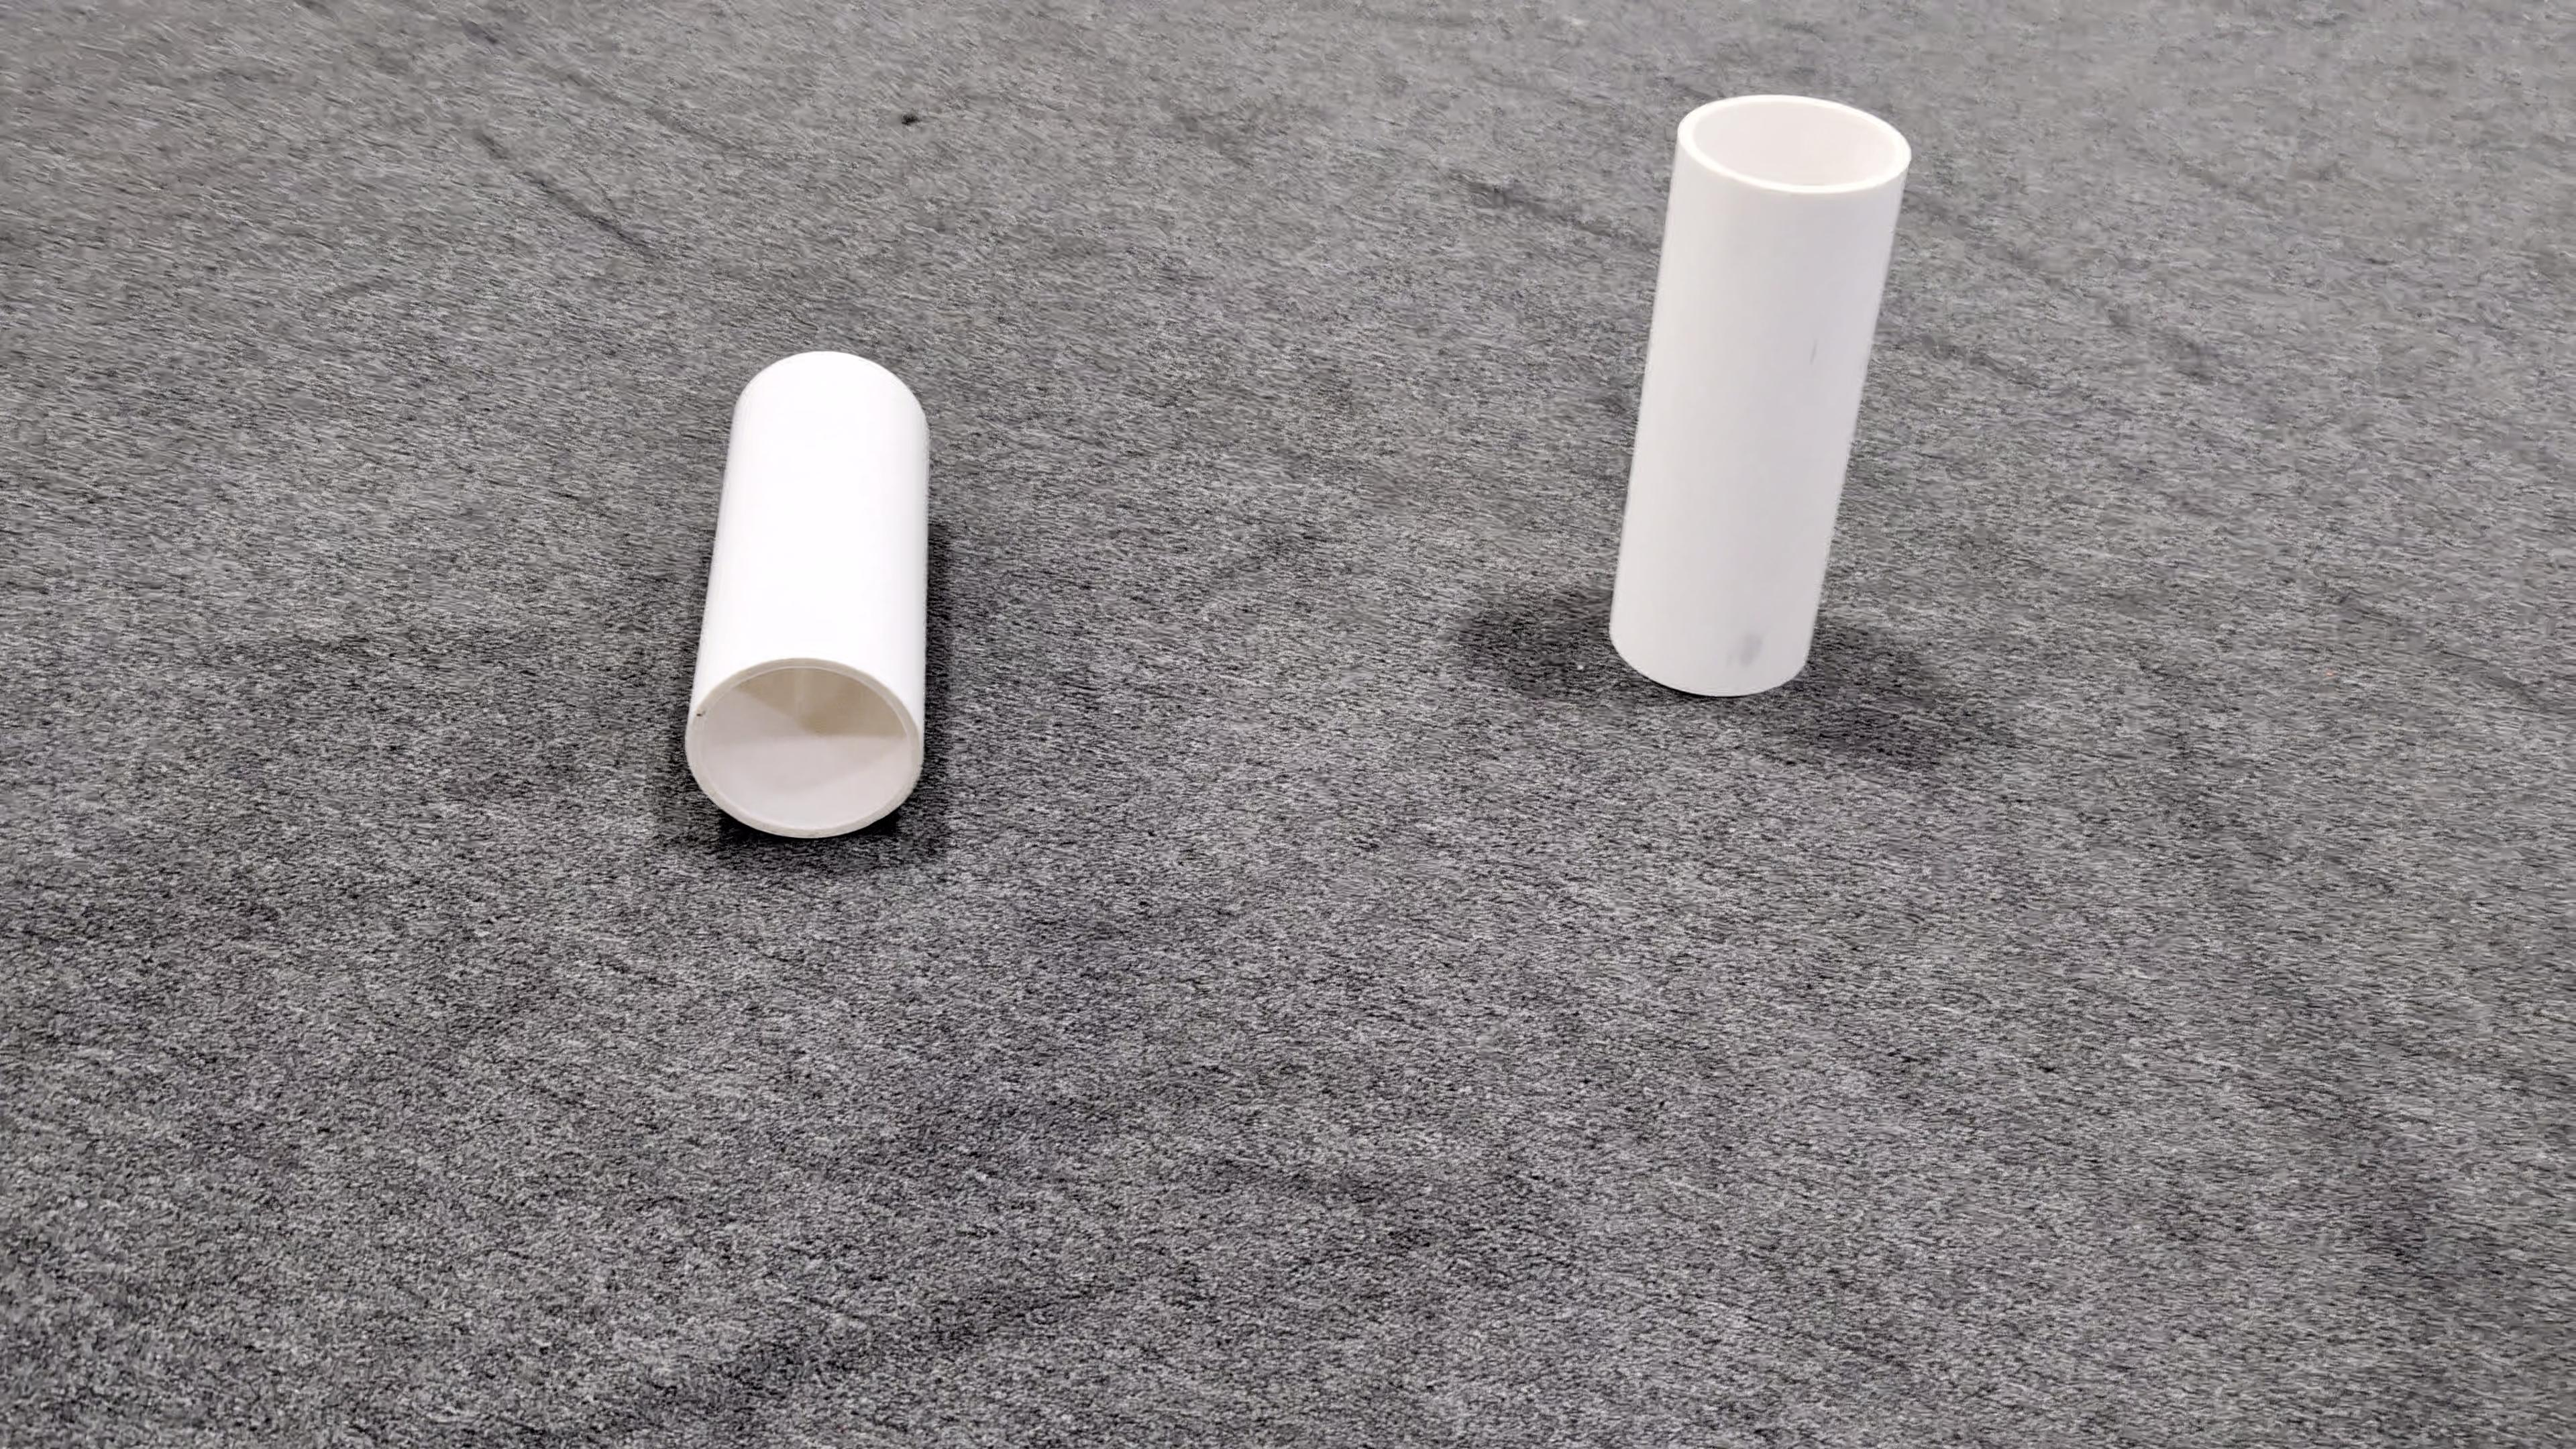coral: (1605, 90, 1909, 697), (681, 347, 934, 839)
